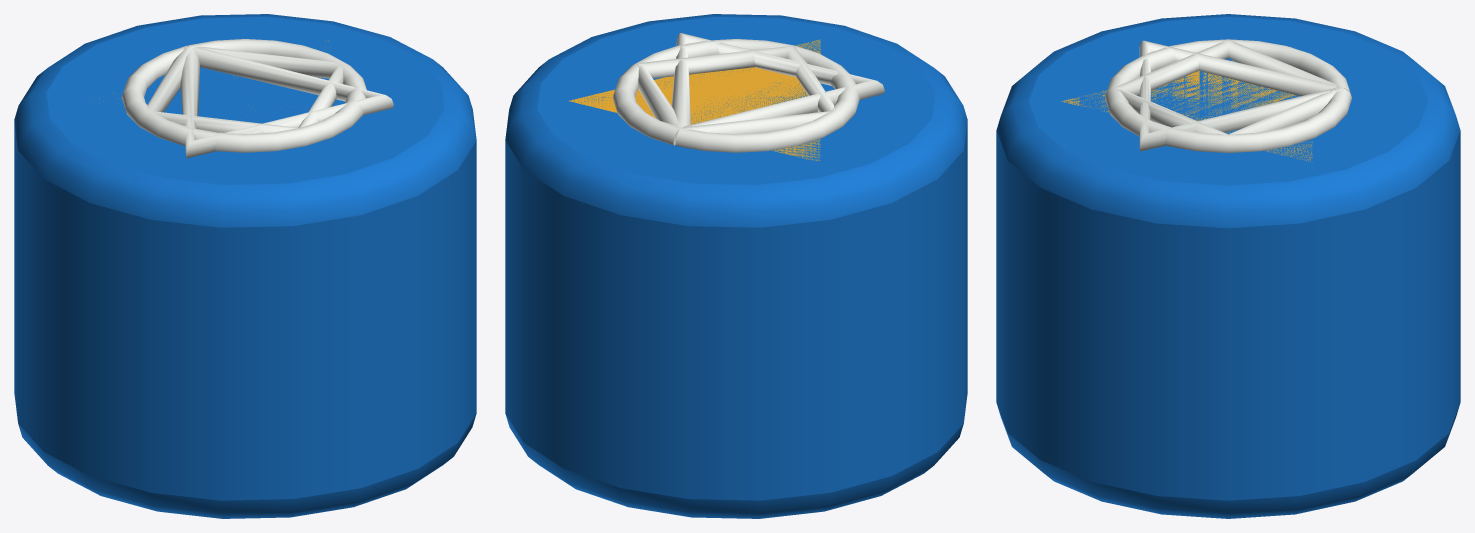
The model's file is GameplayTokens.fbx.
3 views of the same model, side by side, from view 1: azimuth 30°, elevation 25°; view 2: azimuth 150°, elevation 25°; view 3: azimuth 270°, elevation 25° (orthographic).
Parts seen in each view (by area): view 1: BlueBody, BlueMark, YellowMark, RedMark; view 2: BlueBody, BlueMark, YellowBody, RedMark, YellowMark; view 3: BlueBody, BlueMark, YellowMark, RedMark, YellowBody.
Boxes of the visible parts, bbox=[...] form: BlueBody: bbox=[14, 14, 476, 518]; BlueMark: bbox=[121, 39, 366, 152]; YellowMark: bbox=[180, 47, 393, 158]; RedMark: bbox=[147, 45, 344, 133]; BlueBody: bbox=[505, 14, 967, 518]; BlueMark: bbox=[612, 39, 860, 152]; YellowBody: bbox=[569, 39, 820, 160]; RedMark: bbox=[636, 45, 835, 133]; YellowMark: bbox=[671, 33, 884, 127]; BlueBody: bbox=[996, 14, 1460, 518]; BlueMark: bbox=[1105, 39, 1351, 152]; YellowMark: bbox=[1139, 40, 1341, 151]; RedMark: bbox=[1114, 39, 1341, 136]; YellowBody: bbox=[1061, 60, 1312, 162].
Bounding box in the file's own units: 50.8 × 41.47 × 50.8.
